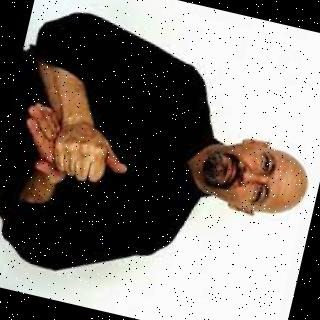Help: (12, 94, 142, 214)
